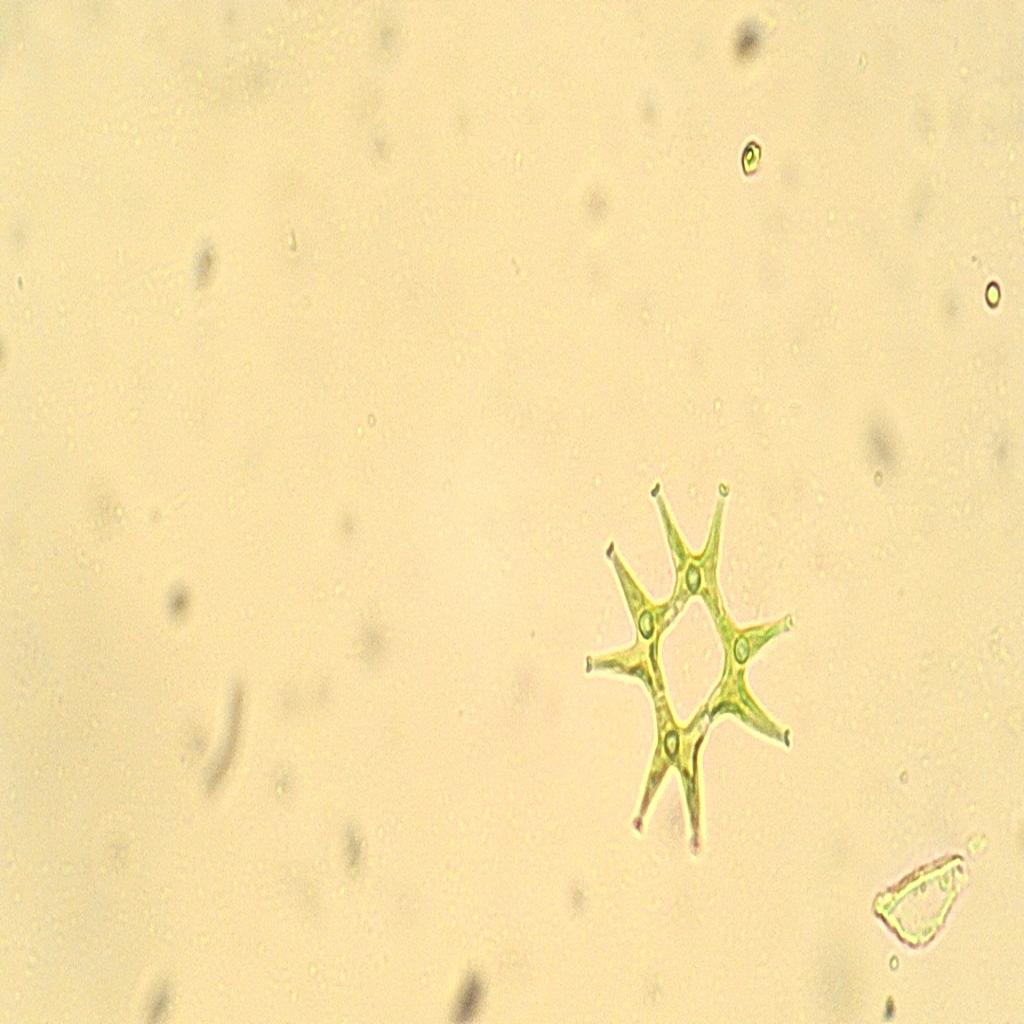Pediastrum_CO: (574, 451, 808, 893)
